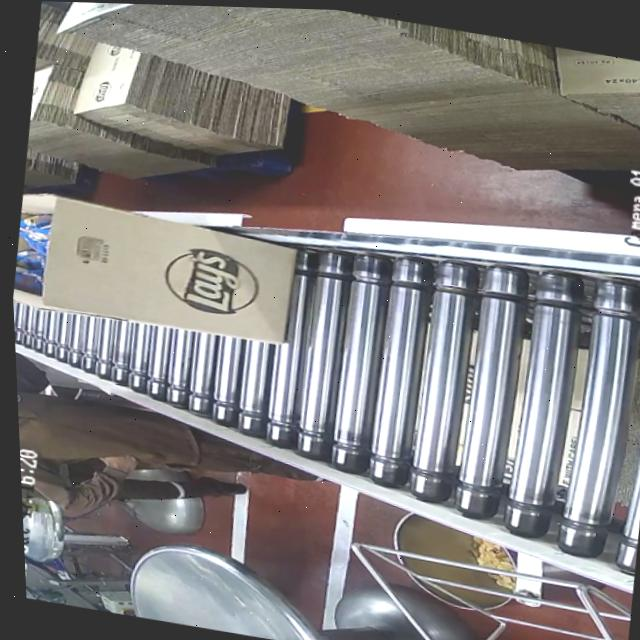PAPRIKA: (11, 205, 53, 293)
